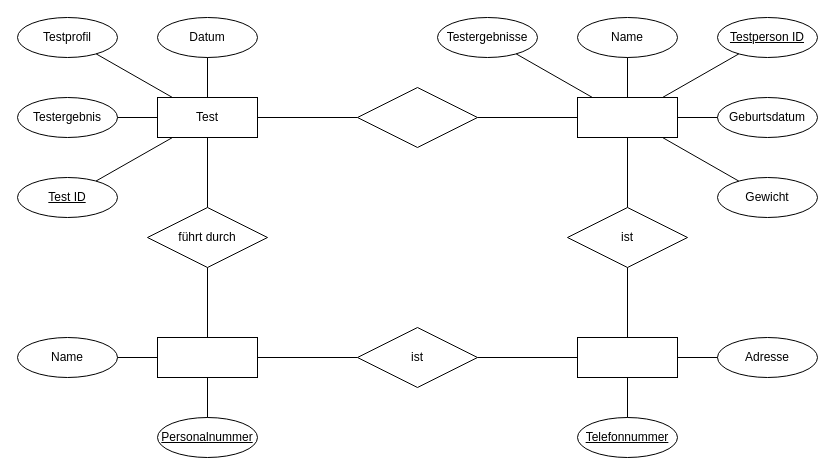
The diagram is 835 pixels wide and 475 high, and some of its shapes have lost their labels. Here are the shapes that lost their labels. From the top down, the box of each, then its label:
(356, 86, 478, 148): wird getestet
(576, 96, 678, 138): Testperson
(156, 336, 258, 378): Diagnostiker
(576, 336, 678, 378): Person
